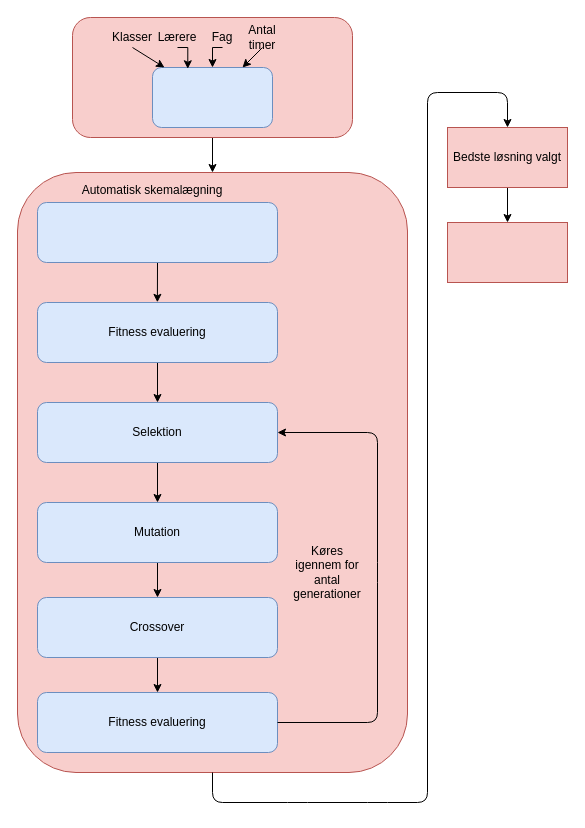
This 585x828 diagram has some shape labels left out. Here are the shapes that lost their labels. From the top down, the centre of each, then its label:
At point 212,97: "Programressourcer".
At point 157,232: "Generer tilfældige skemaer".
At point 507,252: "Print af skema".
